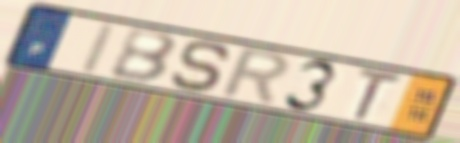3: (281, 59, 347, 115)
B: (107, 27, 181, 85)
I: (75, 20, 121, 77)
R: (215, 45, 293, 109)
S: (168, 39, 236, 95)
T: (351, 66, 406, 124)
